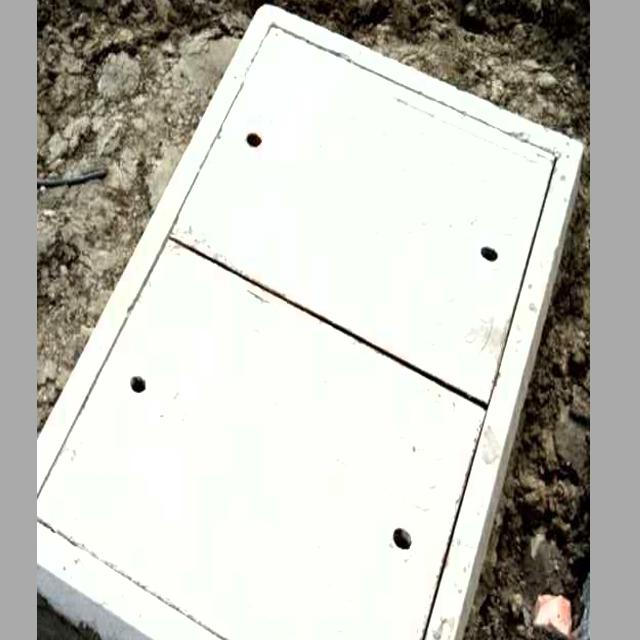good: (40, 6, 573, 640)
